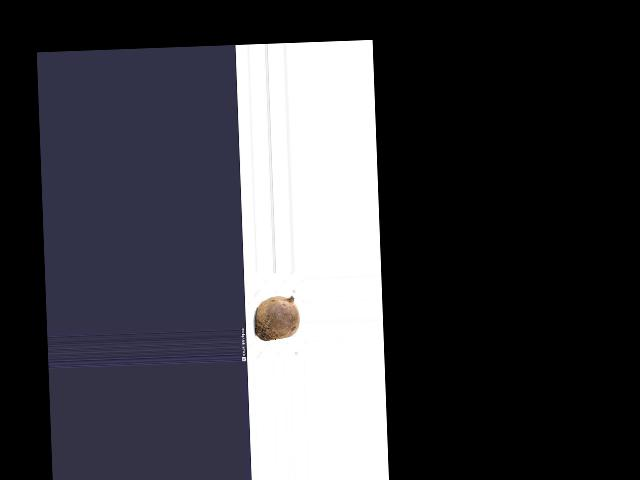beet: (253, 295, 299, 340)
